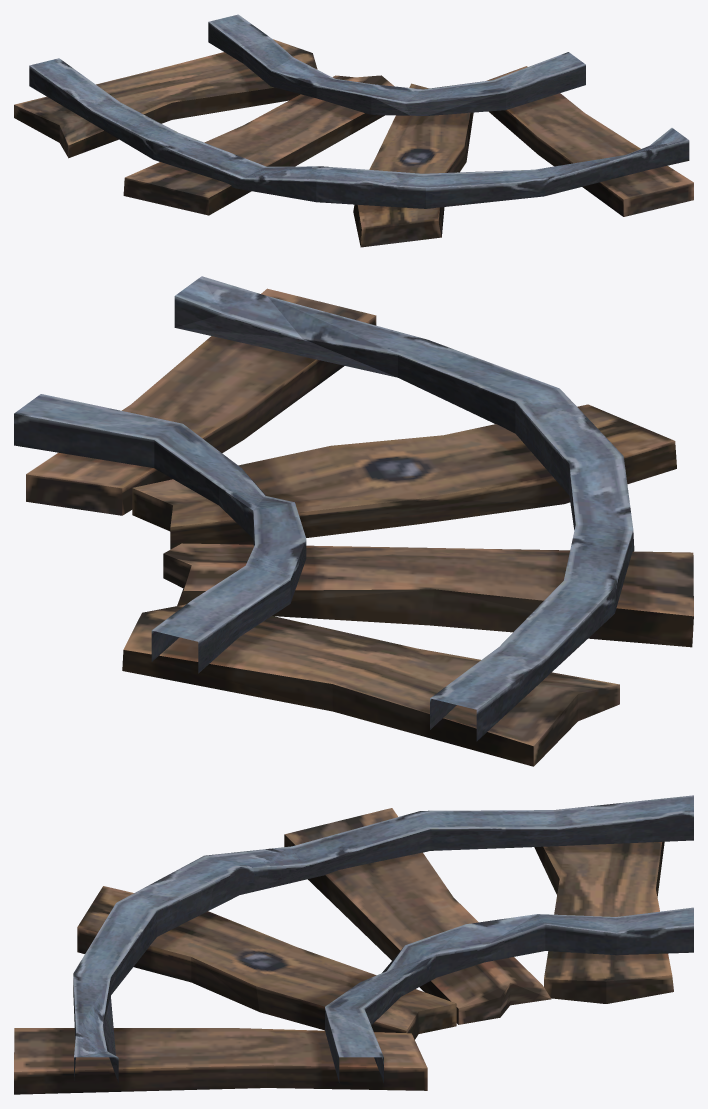
The model's file is mine_track_corner.fbx.
3 renders of one model, top to bottom at view 1: azimuth 30°, elevation 25°; view 2: azimuth 150°, elevation 25°; view 3: azimuth 270°, elevation 25°, orthographic. The views are drawn at different scales.
Visible parts, largest first — view 1: obj0.095; view 2: obj0.095; view 3: obj0.095.
Part boxes in pixels (left/top/right/bottom): obj0.095: left=14, top=14, right=693, bottom=247; obj0.095: left=14, top=276, right=693, bottom=766; obj0.095: left=14, top=795, right=693, bottom=1094.
Bounding box in the file's own units: 2.84 × 0.2672 × 2.92.
